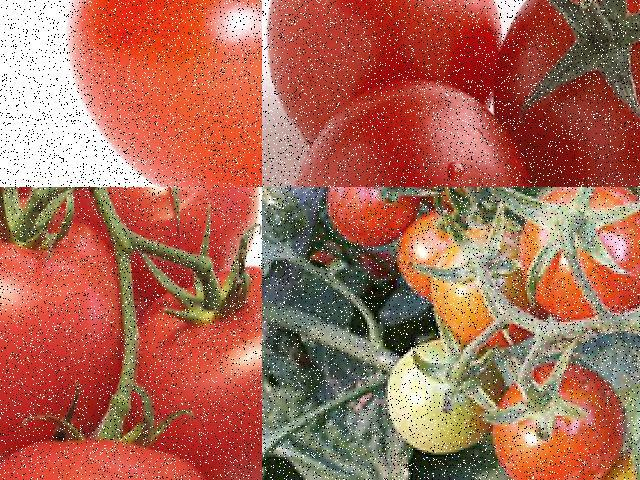tomato: (263, 0, 498, 152), (70, 0, 261, 186), (0, 194, 129, 440), (287, 75, 541, 186), (138, 267, 261, 479), (507, 0, 639, 186), (53, 187, 261, 280), (520, 187, 639, 321), (499, 367, 624, 479), (436, 240, 554, 350), (0, 444, 241, 479), (396, 217, 479, 294), (323, 187, 416, 240), (417, 187, 489, 206)
